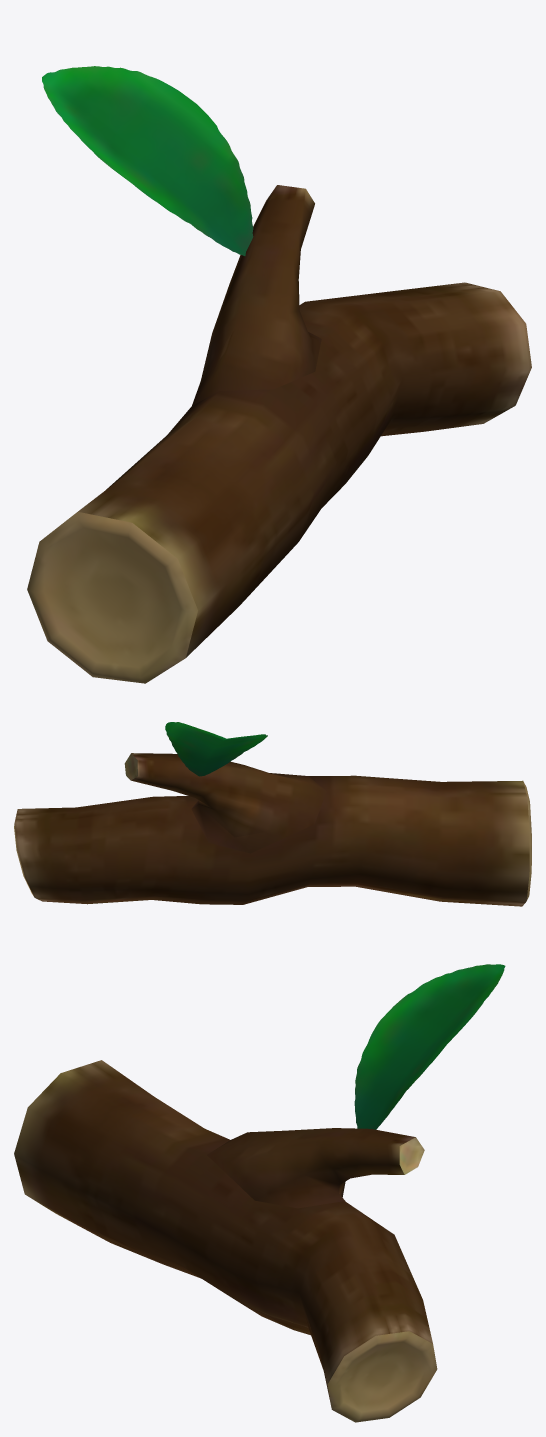
Rendered from tree-branch.glb.
3 renders of one model, top to bottom at view 1: azimuth 30°, elevation 25°; view 2: azimuth 150°, elevation 25°; view 3: azimuth 270°, elevation 25°, orthographic. The views are drawn at different scales.
Bounding box in the file's own units: 4.65 × 2.95 × 3.99.
1 material, 1 textured.
